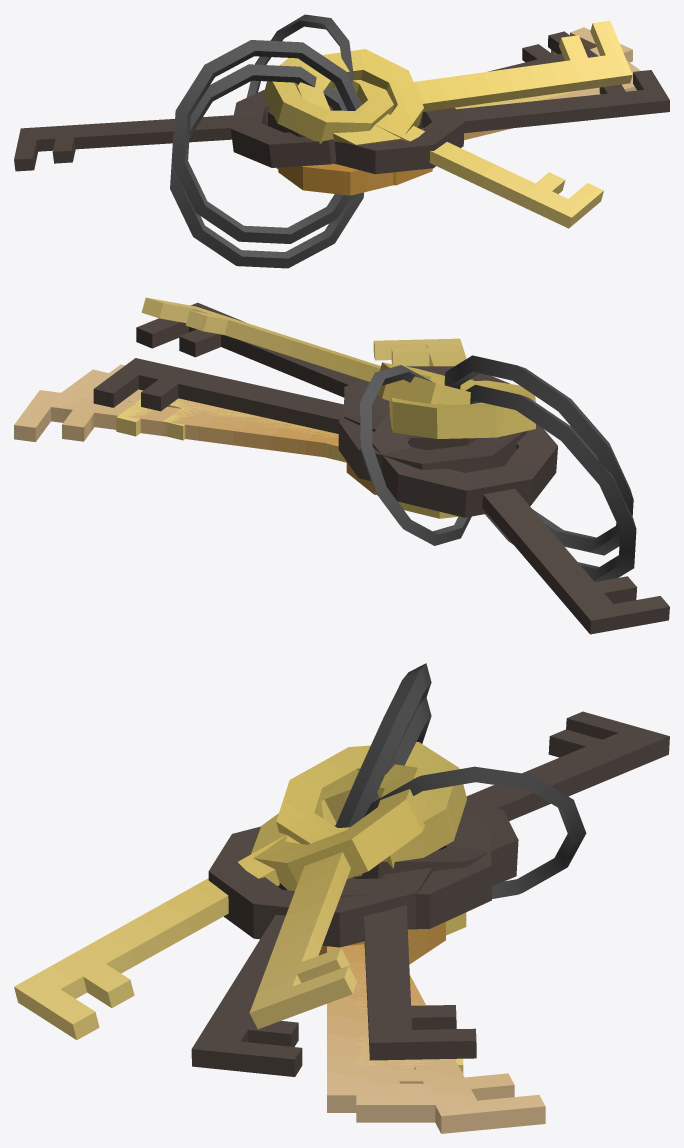
The model's file is Keys.fbx.
3 views of the same model, one above another, from view 1: azimuth 30°, elevation 25°; view 2: azimuth 150°, elevation 25°; view 3: azimuth 270°, elevation 25° (orthographic). The views are drawn at different scales.
Visible parts, largest first — view 1: Keys01, Keys02, Keys03, Key01; view 2: Keys01, Keys02, Keys03, Key01, Key02; view 3: Keys01, Keys02, Keys03, Key02, Key01.
Part boxes in pixels (box(x1,y1,x2,y2)): Keys01: box(14, 14, 636, 228); Keys02: box(172, 20, 632, 243); Keys03: box(170, 27, 669, 268); Key01: box(276, 90, 579, 168); Keys01: box(82, 338, 669, 634); Keys02: box(93, 297, 633, 555); Keys03: box(14, 302, 636, 581); Key01: box(116, 399, 459, 518); Key02: box(50, 369, 345, 461); Keys01: box(14, 711, 669, 1112); Keys02: box(249, 663, 491, 1060); Keys03: box(191, 697, 545, 1133); Key02: box(356, 945, 463, 1122); Key01: box(356, 912, 466, 1073).
Size of the model in its own units: 25.4 by 8.55 by 17.04.
